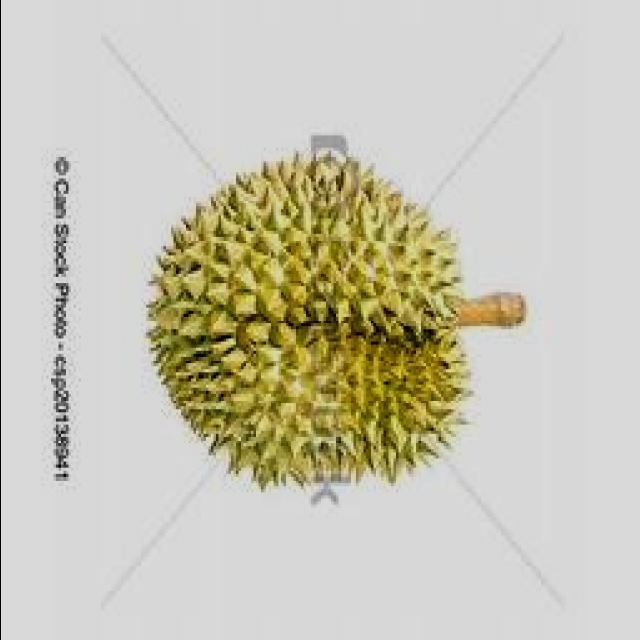agrume: (127, 123, 482, 511)
